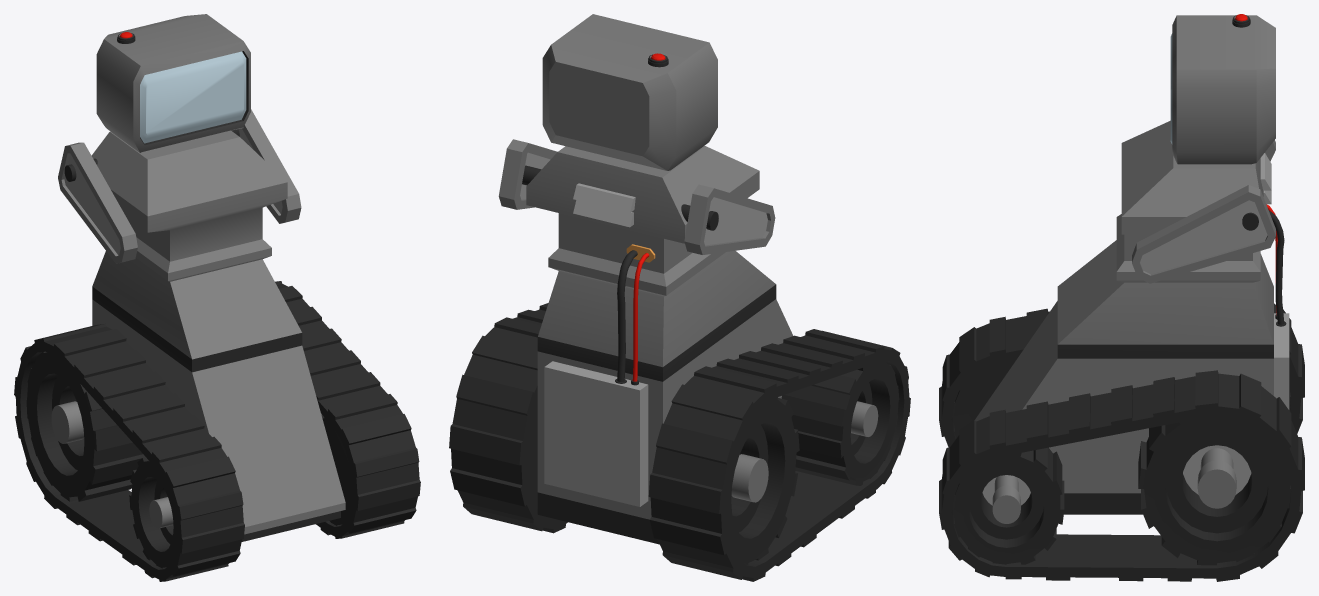
Rendered from botTank.fbx.
3 renders of one model, left to right at view 1: azimuth 30°, elevation 25°; view 2: azimuth 150°, elevation 25°; view 3: azimuth 270°, elevation 25°, orthographic. The views are drawn at different scales.
Visible parts, largest first — view 1: Tank Bot; view 2: Tank Bot; view 3: Tank Bot.
Part boxes in pixels (bbox=[...]): Tank Bot: bbox=[14, 14, 420, 581]; Tank Bot: bbox=[449, 14, 910, 581]; Tank Bot: bbox=[939, 14, 1304, 581].
Bounding box in the file's own units: 73.51 × 90.36 × 132.
